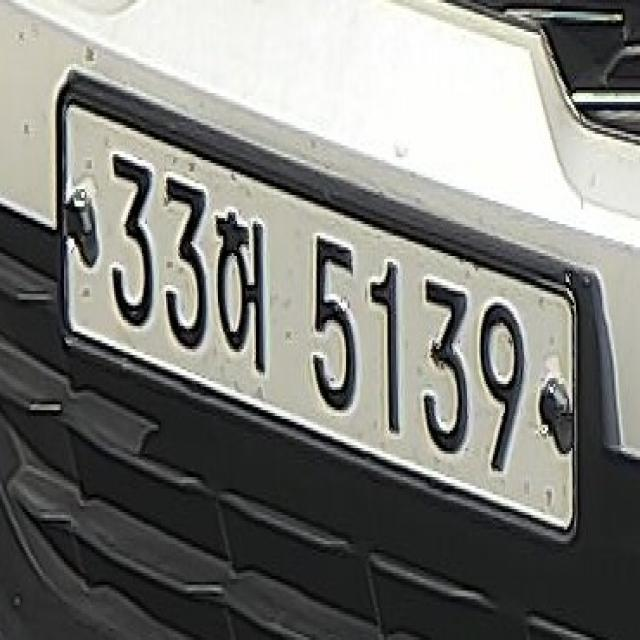1: (370, 256, 401, 431)
3: (419, 274, 472, 460), (108, 148, 158, 332), (163, 166, 211, 352)
5: (310, 233, 360, 413)
9: (474, 297, 528, 474)
heo: (209, 204, 270, 375)
license_plate: (64, 99, 576, 535)
